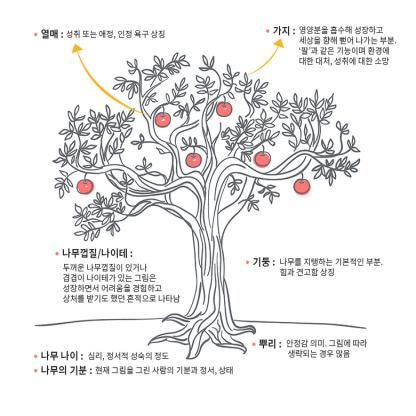apple: (182, 149, 204, 170), (252, 150, 274, 170), (213, 100, 234, 119), (151, 110, 173, 128), (292, 178, 312, 196), (74, 178, 94, 194)
branch_sharp: (52, 50, 362, 245)
root_upside: (142, 308, 258, 361)
trunk_bark: (190, 239, 233, 308)
